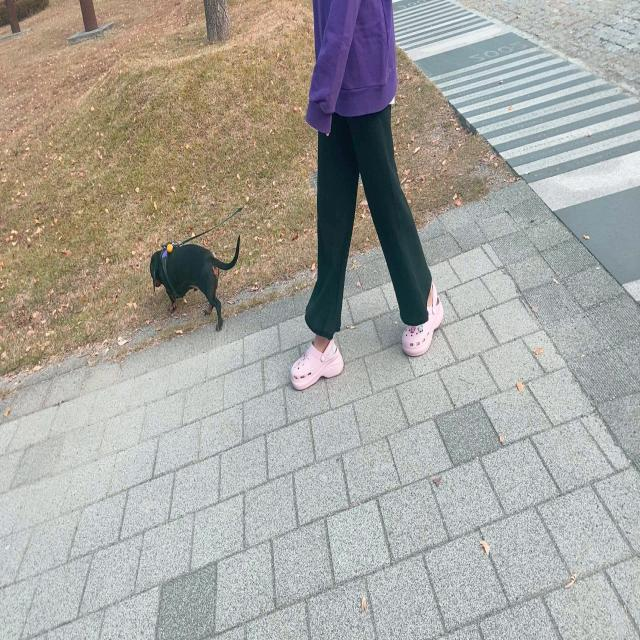Leashed_Dog: (150, 89, 345, 332)
